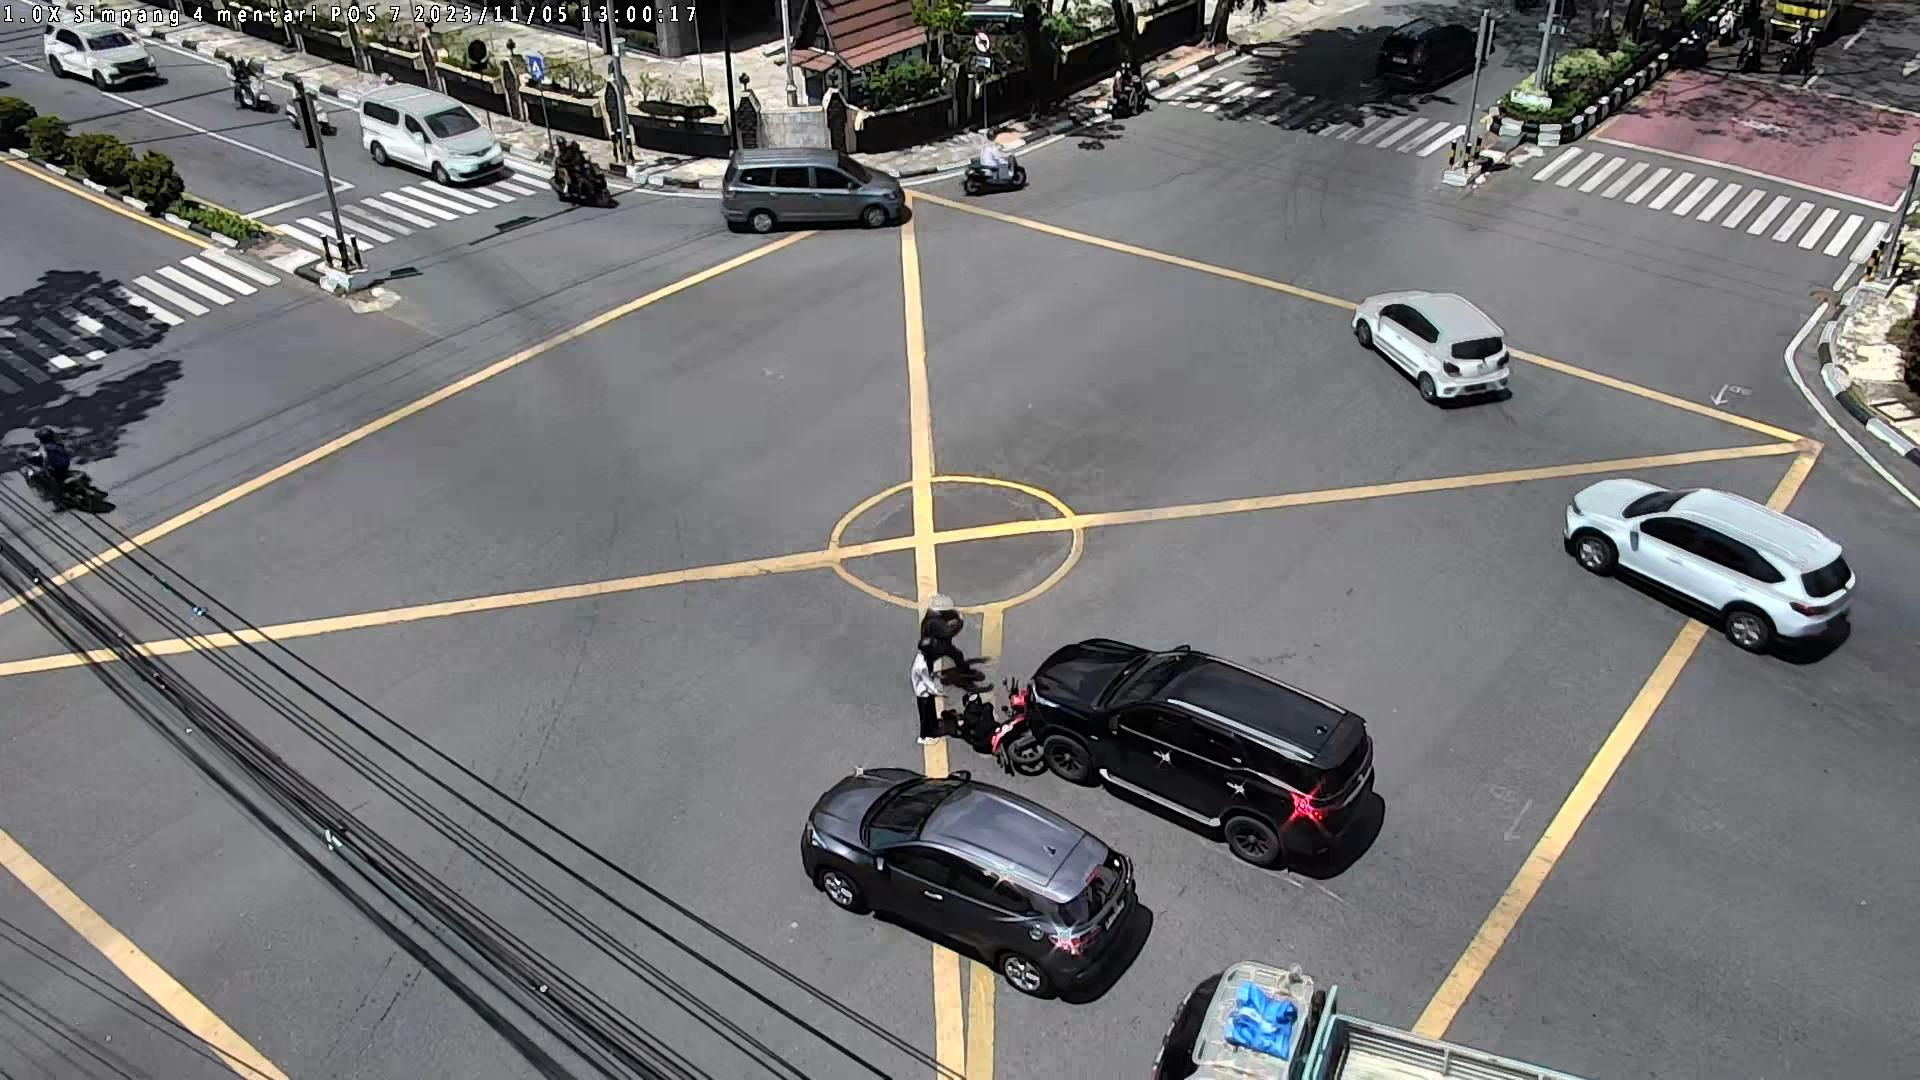accident: (940, 688, 998, 749)
